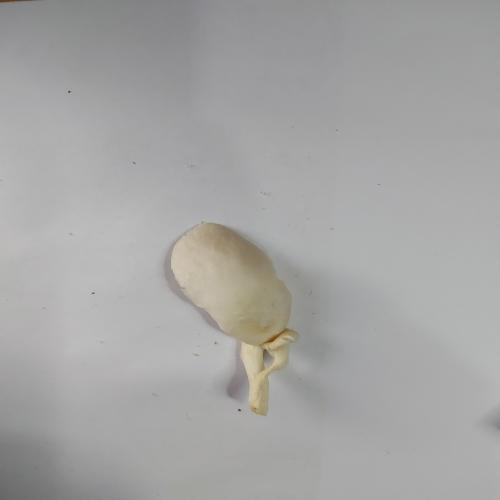Oyster Mushroom: (168, 220, 300, 416)
